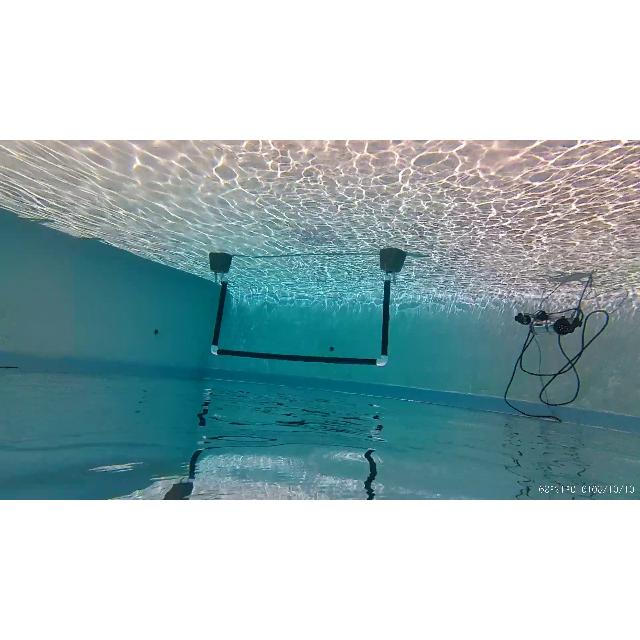prequal gate: (207, 274, 403, 368)
prequal gate leg l: (376, 248, 406, 362)
prequal gate leg r: (209, 250, 229, 356)
